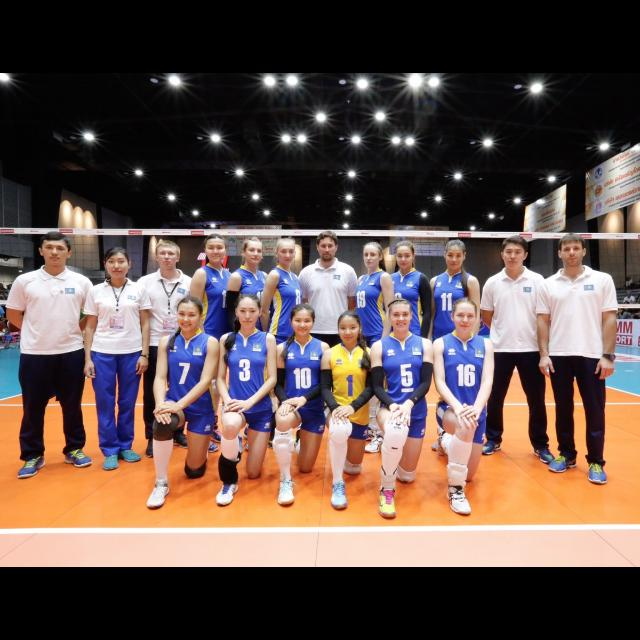head: (38, 233, 74, 269), (177, 296, 206, 334), (500, 236, 530, 272), (557, 234, 587, 268), (236, 294, 264, 330), (102, 247, 132, 280), (451, 300, 479, 334), (388, 298, 414, 334), (290, 304, 316, 338), (154, 240, 182, 270), (338, 312, 364, 344), (204, 234, 228, 264), (241, 238, 265, 266), (362, 242, 386, 270), (444, 240, 466, 270), (316, 233, 339, 261), (395, 242, 417, 270), (275, 239, 297, 265)
person: (4, 230, 96, 482), (536, 232, 620, 488), (480, 236, 556, 467), (82, 245, 154, 473), (146, 294, 220, 512), (368, 297, 436, 521), (134, 240, 200, 460), (214, 294, 280, 508), (432, 298, 496, 518), (224, 237, 282, 456), (272, 302, 332, 510), (318, 311, 378, 514), (298, 230, 360, 424), (188, 232, 242, 454), (428, 237, 482, 458), (383, 240, 435, 456), (259, 235, 305, 452), (351, 241, 395, 455)
